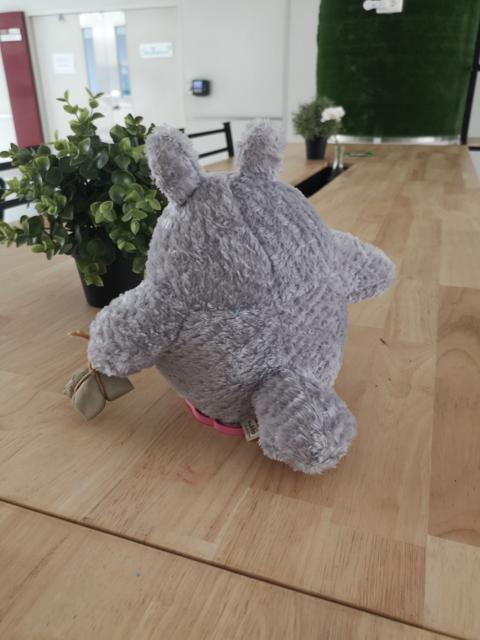totoro: (60, 117, 400, 484)
